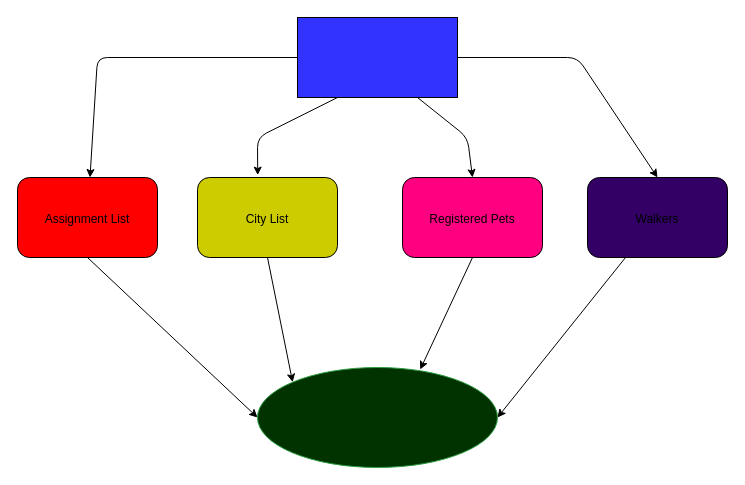
The diagram is 745 pixels wide and 485 high, and some of its shapes have lost their labels. The shapes that lost their labels are listed below. From the top down, each one's centre as x and y in pixels, then its label:
the point at 377,57: Main
the point at 377,417: Database
